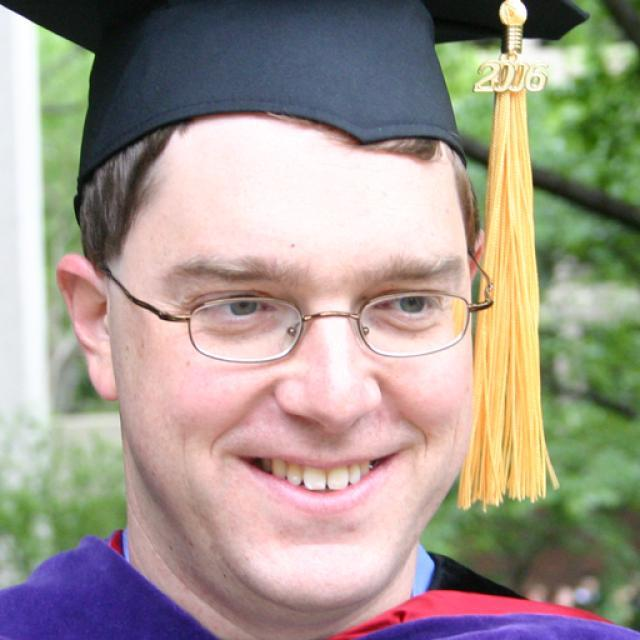happy: (118, 122, 478, 608)
